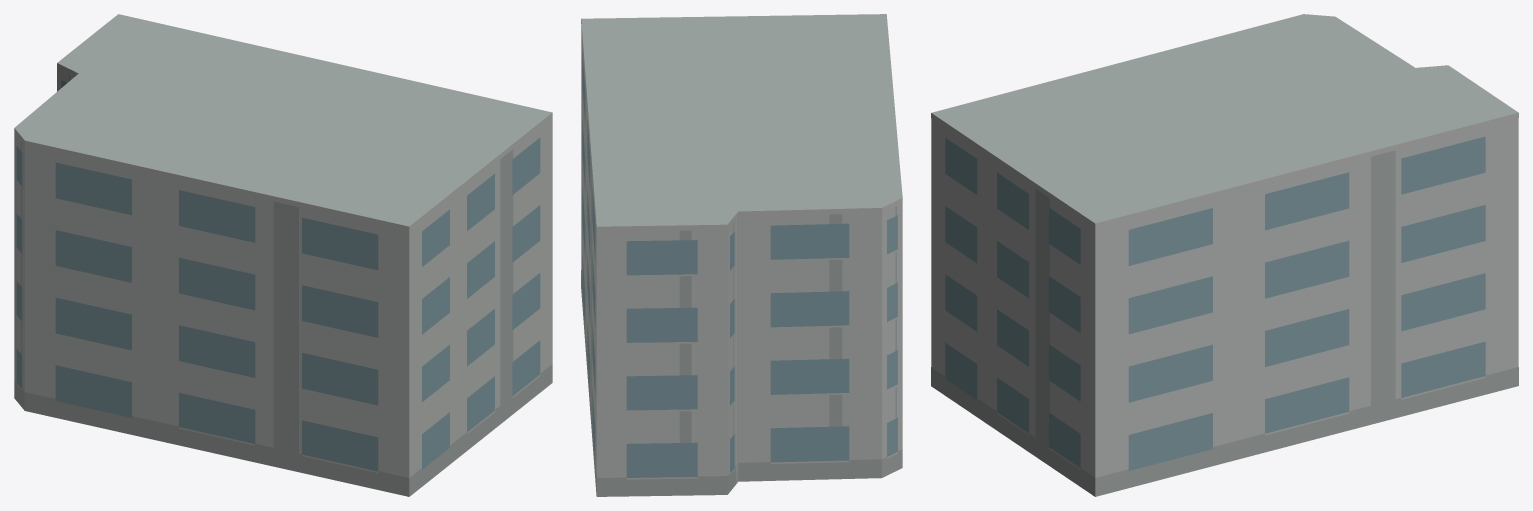
The model's file is residential-c86b57e9-c073-4ab4-bcbb-59c9b54f4448.glb.
The picture shows the model from 3 angles, left to right: view 1: azimuth 30°, elevation 25°; view 2: azimuth 150°, elevation 25°; view 3: azimuth 270°, elevation 25°; orthographic projection.
Visible parts, largest first — view 1: residential-c86b57e9-c073-4ab4-bcbb-59c9b54f4448.tmp; view 2: residential-c86b57e9-c073-4ab4-bcbb-59c9b54f4448.tmp; view 3: residential-c86b57e9-c073-4ab4-bcbb-59c9b54f4448.tmp.
Part boxes in pixels (box(x1,y1,x2,y2)): residential-c86b57e9-c073-4ab4-bcbb-59c9b54f4448.tmp: box(14, 14, 552, 496); residential-c86b57e9-c073-4ab4-bcbb-59c9b54f4448.tmp: box(581, 14, 902, 496); residential-c86b57e9-c073-4ab4-bcbb-59c9b54f4448.tmp: box(931, 14, 1518, 496).
Bounding box in the file's own units: 20.39 × 12.4 × 24.17.
